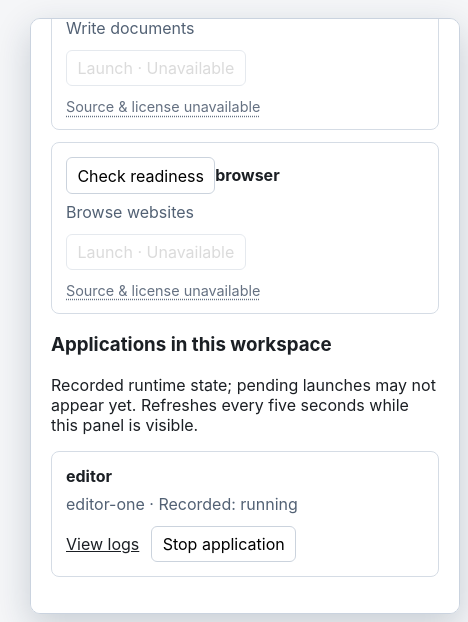
Scenario: does not claim termination for a pending stop
(page scrolled)
Step 1. Click the button with aria-label "Stop editor-one" → (224, 544), box 151,526 -> 296,562
(page scrolled)
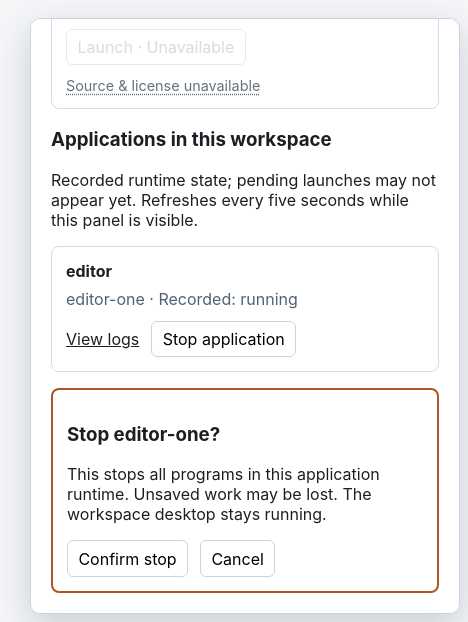
Step 2. Click the button "Confirm stop" → (128, 558), box 67,540 -> 188,577
(page scrolled)
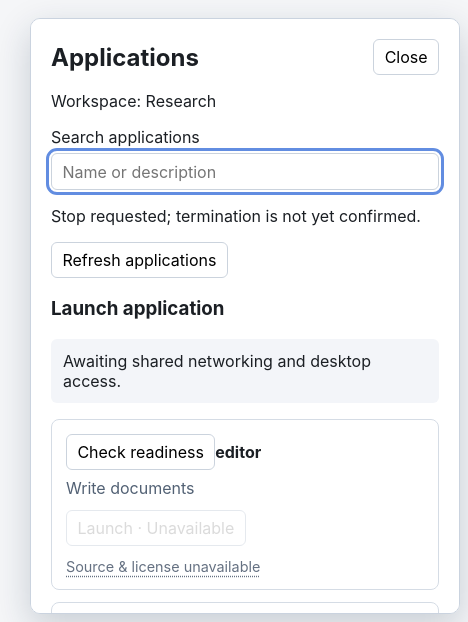
Check: the text "Stop requested; termination is not yet confirmed." is shown, box 51,206 -> 439,226
